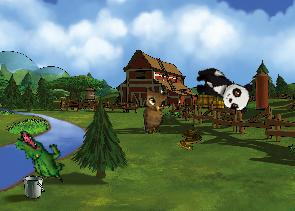crocodile: (6, 128, 75, 184)
owl: (140, 85, 173, 135)
panda: (189, 63, 256, 115)
